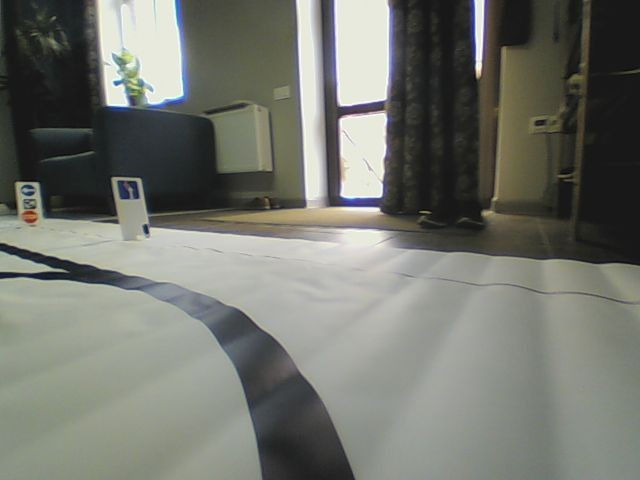priority_movement: (115, 178, 140, 201)
